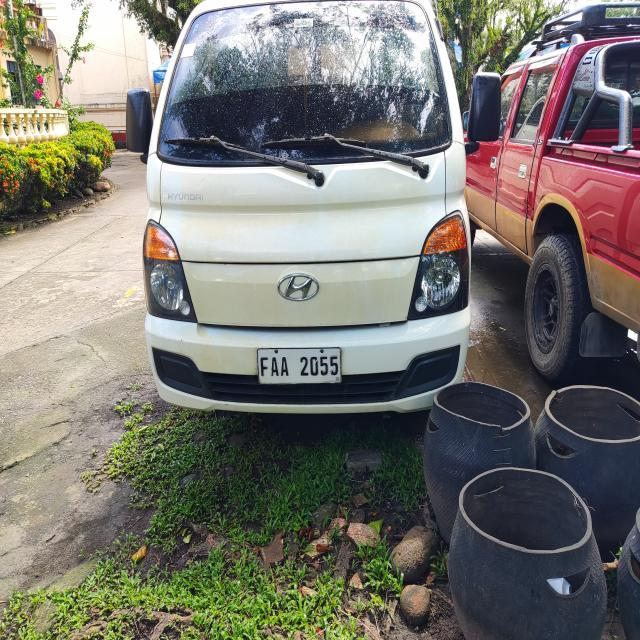LicensePlate: (248, 339, 348, 392)
